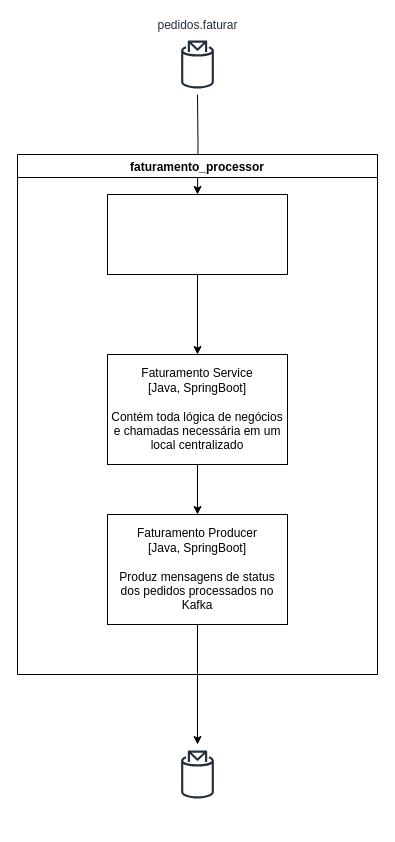
Image size: 395x842. Some labels were removed from this diagram. The shapes that lost their labels are listed below. From the top down, each one's centre as x and y in pixels, then its label:
point 197,234: Faturamento Listener [Java, SpringBoot] Recebe os eventos do tópico do kafka
point 197,774: eventos.faturamento
